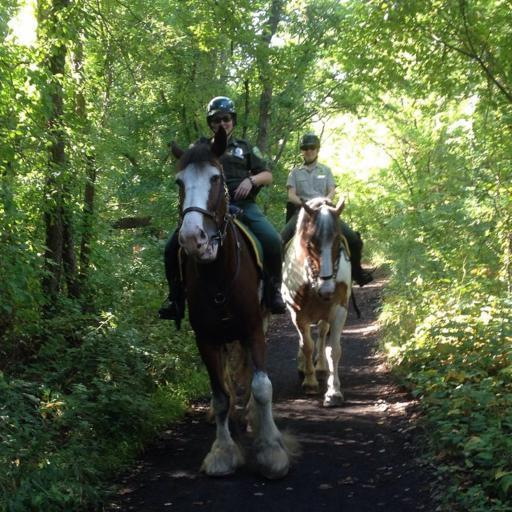horse: (170, 122, 308, 482), (279, 194, 355, 406)
